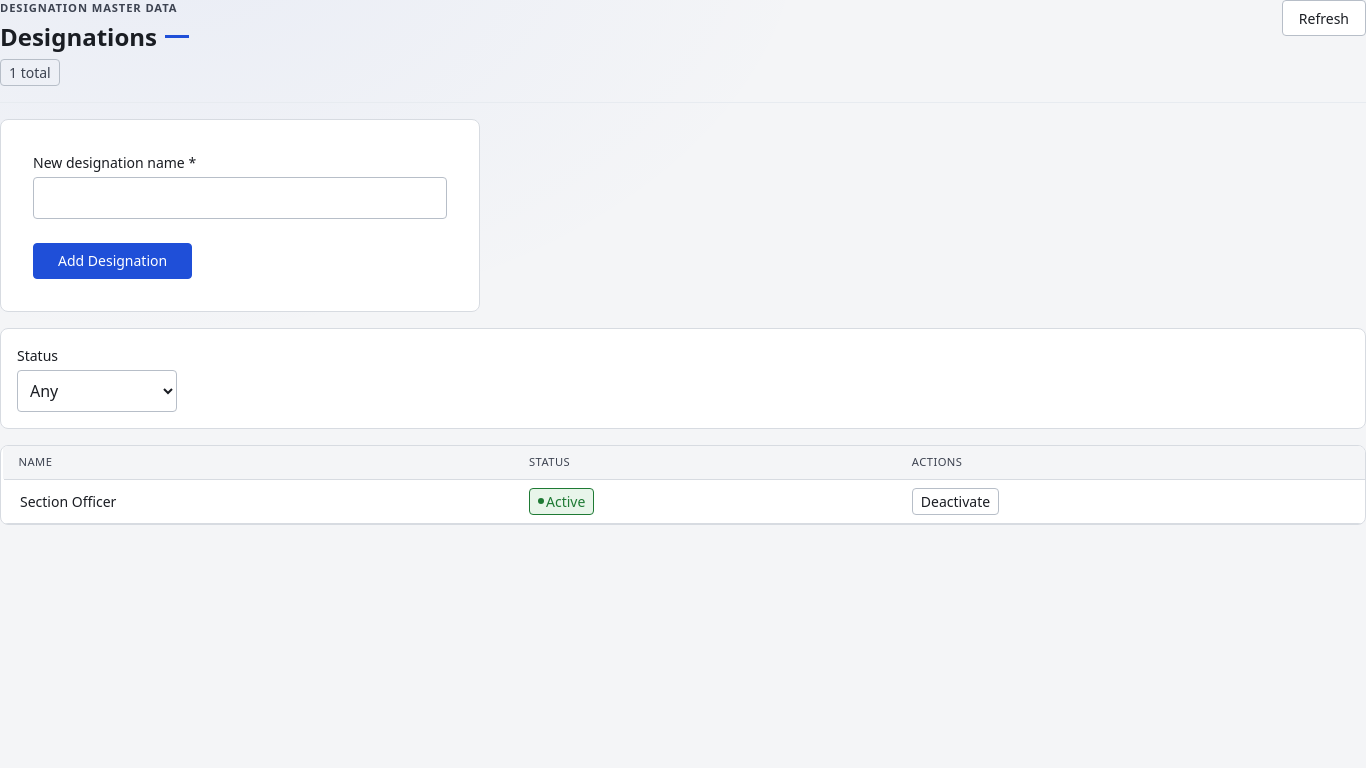
Test: DesignationListPage › deactivates only after confirmation, stating existing Letters keep their designation unchanged
expect the column heading "Section Officer" is shown: met, box x1=2 y1=479 x2=513 y2=523
Click the button "Deactivate".
click(956, 501)  # box x1=912 y1=488 x2=999 y2=515
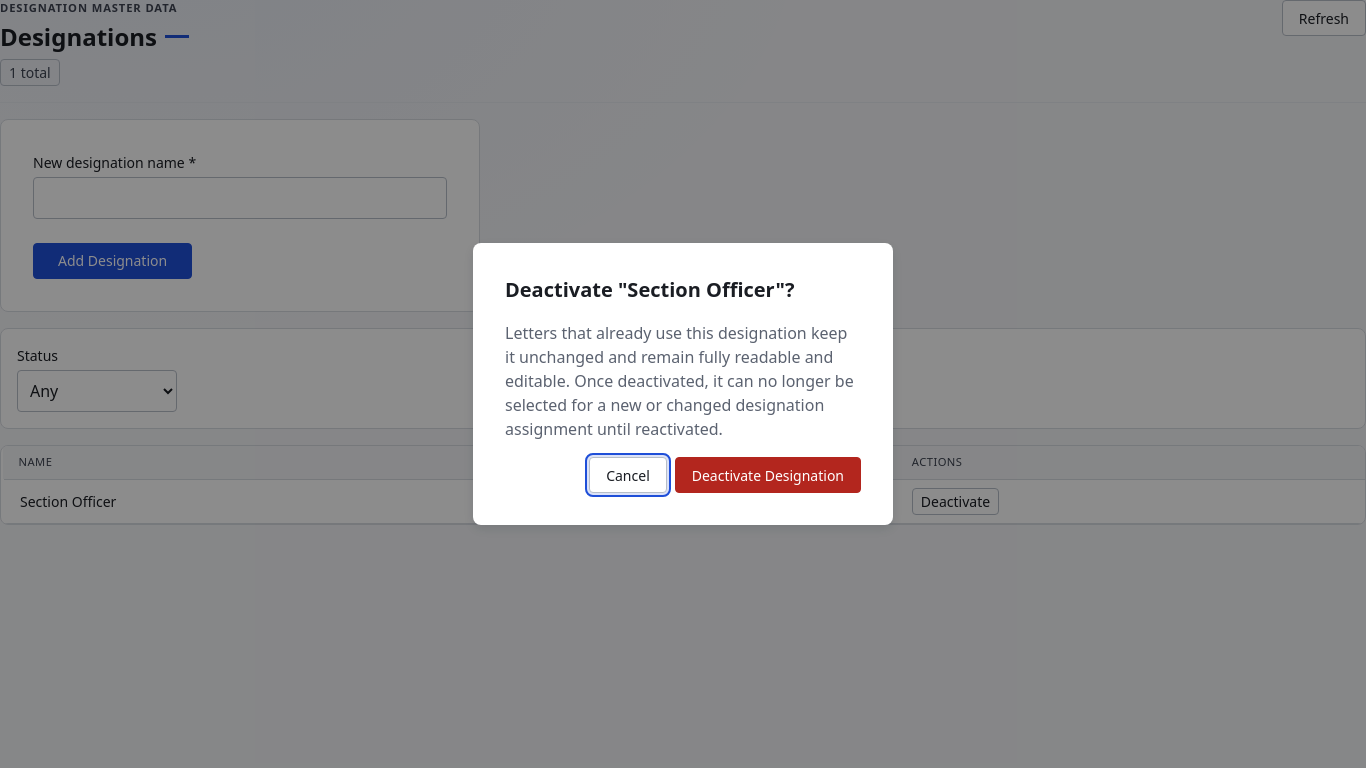
Click the button "Deactivate Designation".
click(768, 475)  # box x1=675 y1=457 x2=861 y2=493
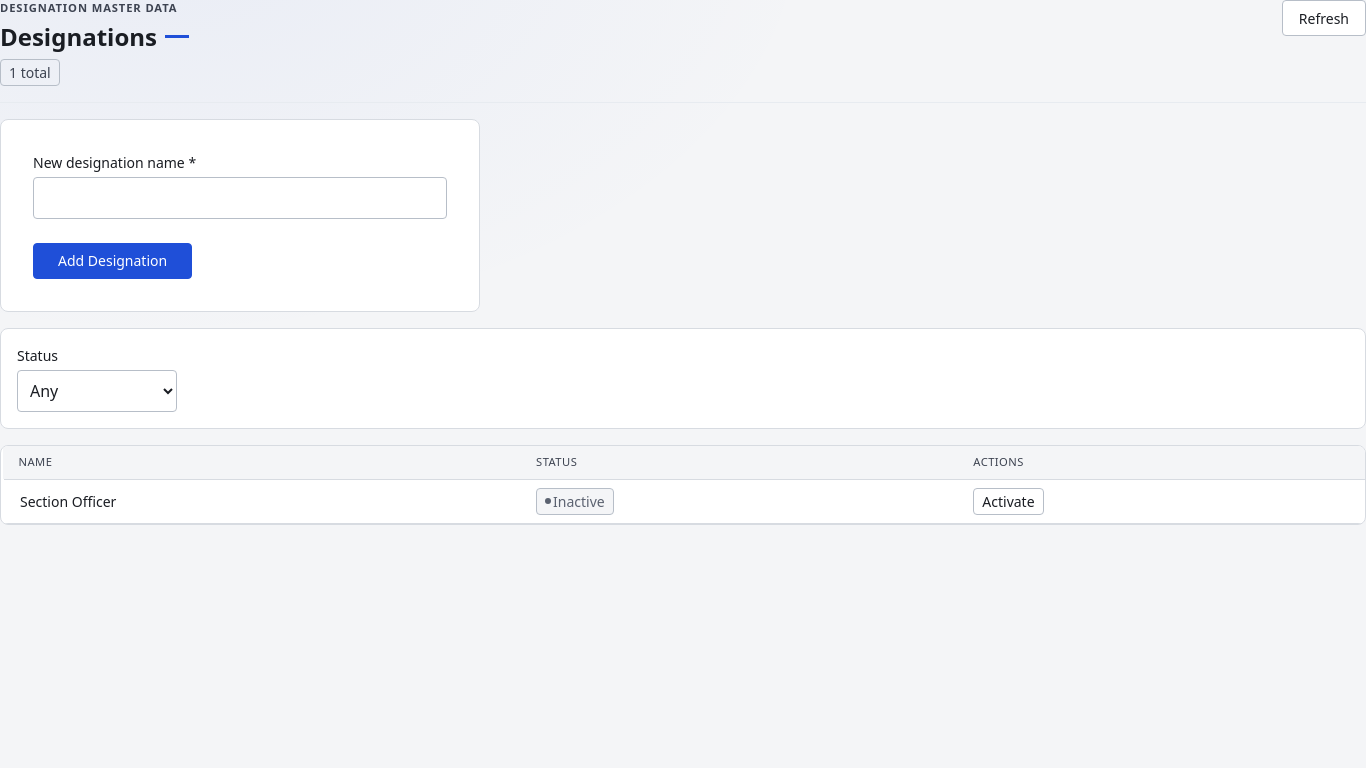
expect the button "Activate" is shown: met, box x1=973 y1=488 x2=1044 y2=515
